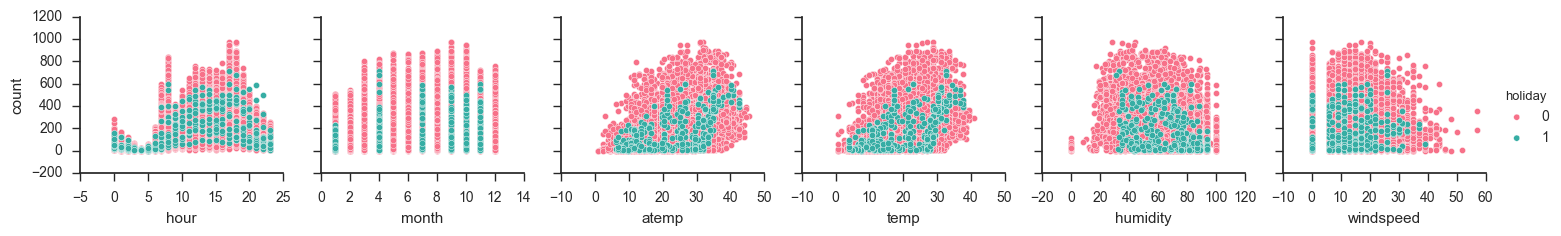

What the dashboard file says about the page in this screenshot:
{"tool":"tableau","page":{"name":"Dashboard 1","canvas":[1000,800],"ordinal":0},"visuals":[{"type":"worksheet","title":"Sheet 1","mark":"Circle","rows":["MPG"],"cols":["Weight"],"box":[0,0,840,800]},{"type":"legend","title":"Sheet 1","param":"[textscan.14h8h6g1ua10101g5851s1sy8clt].[none:Manufacturer:nk]","box":[840,0,160,134]},{"type":"legend","title":"Sheet 1","param":"[textscan.14h8h6g1ua10101g5851s1sy8clt].[none:Weight:qk]","box":[840,134,160,110]}]}

Visuals, with their boxes on the page's 1000x800 design canvas (x1, y1, x2, y2). These are canvas units, not pixel positions in the 1561x236 screenshot, which may show the page scaled, cropped or inside an application window:
"Sheet 1" worksheet (Circle marks): (0,0,840,800)
"Sheet 1" legend: (840,0,1000,134)
"Sheet 1" legend: (840,134,1000,244)
